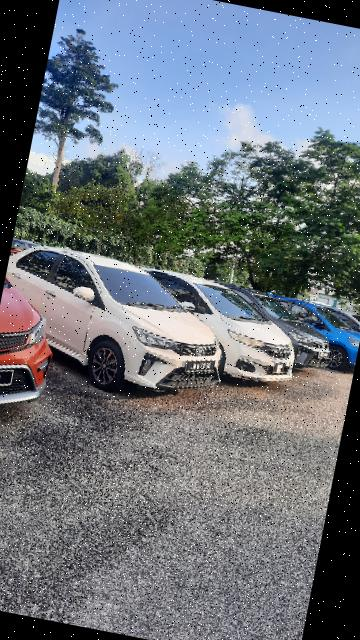License_Plate: (184, 353, 218, 380), (270, 358, 291, 378), (318, 351, 332, 362)
car: (1, 236, 241, 412), (119, 260, 314, 401), (1, 264, 73, 422), (224, 289, 344, 382), (279, 296, 360, 374)
